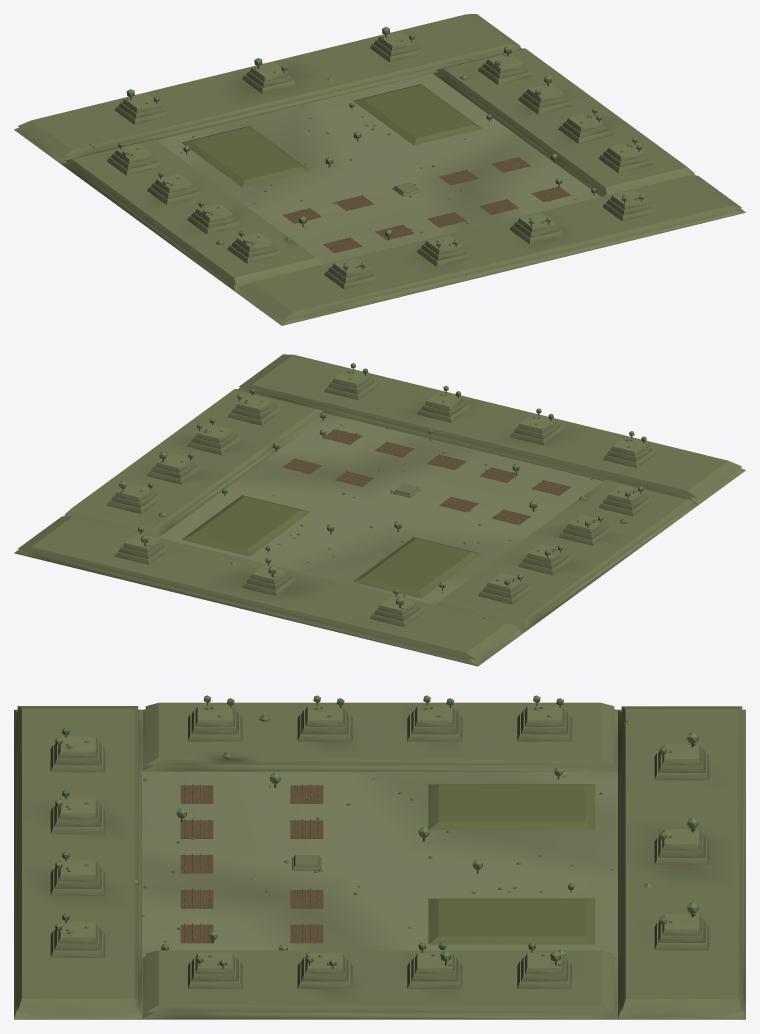
File: ciudadela-1500.glb
The picture shows the model from 3 angles, top to bottom: view 1: azimuth 30°, elevation 25°; view 2: azimuth 150°, elevation 25°; view 3: azimuth 270°, elevation 25°; orthographic projection. The views are drawn at different scales.
Parts seen in each view (by area): view 1: p0_platforms, p1_stage1, p2_growth; view 2: p0_platforms, p1_stage1, p2_growth; view 3: p0_platforms, p1_stage1, p2_growth.
Part boxes in pixels (x1,y1,x2,y2): p0_platforms: [14, 14, 745, 325]; p1_stage1: [107, 27, 656, 289]; p2_growth: [89, 74, 596, 252]; p0_platforms: [14, 354, 745, 666]; p1_stage1: [107, 363, 656, 627]; p2_growth: [159, 413, 628, 619]; p0_platforms: [14, 702, 745, 1019]; p1_stage1: [50, 695, 709, 989]; p2_growth: [134, 714, 652, 955].
Bounding box in the file's own units: 400 × 25.76 × 400.
